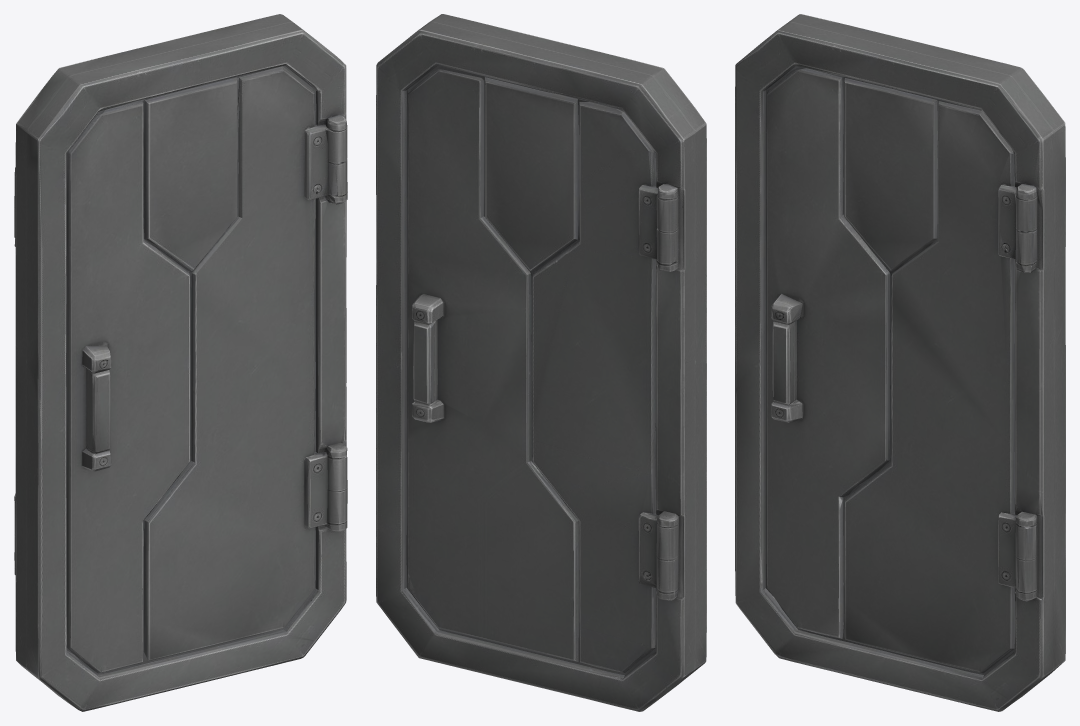
The model's file is shared_flak_tower_large_option__entrance_door_leaf.glb.
3 renders of one model, left to right at view 1: azimuth 30°, elevation 25°; view 2: azimuth 150°, elevation 25°; view 3: azimuth 330°, elevation 25°, orthographic.
Parts seen in each view (by area): view 1: mesh_node; view 2: mesh_node; view 3: mesh_node.
Boxes of the visible parts, left/top/right/bottom form: mesh_node: left=14, top=14, right=347, bottom=711; mesh_node: left=376, top=14, right=706, bottom=711; mesh_node: left=735, top=14, right=1065, bottom=711.
Bounding box in the file's own units: 1.53 × 2.99 × 0.3751.
1 material, 1 textured.
